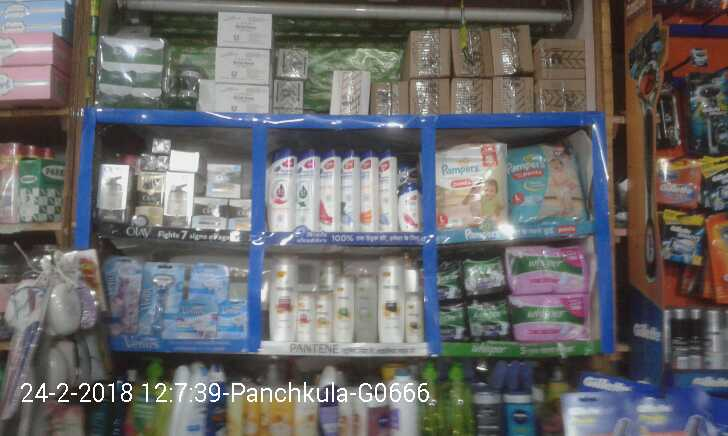gillete: (690, 73, 728, 148), (702, 214, 728, 295), (653, 157, 696, 205), (663, 214, 701, 256), (704, 154, 728, 209), (652, 92, 676, 140), (673, 311, 691, 367), (691, 310, 707, 367)
venus: (103, 259, 140, 337), (140, 263, 175, 337), (179, 302, 217, 340), (188, 262, 227, 298), (217, 299, 247, 340)
